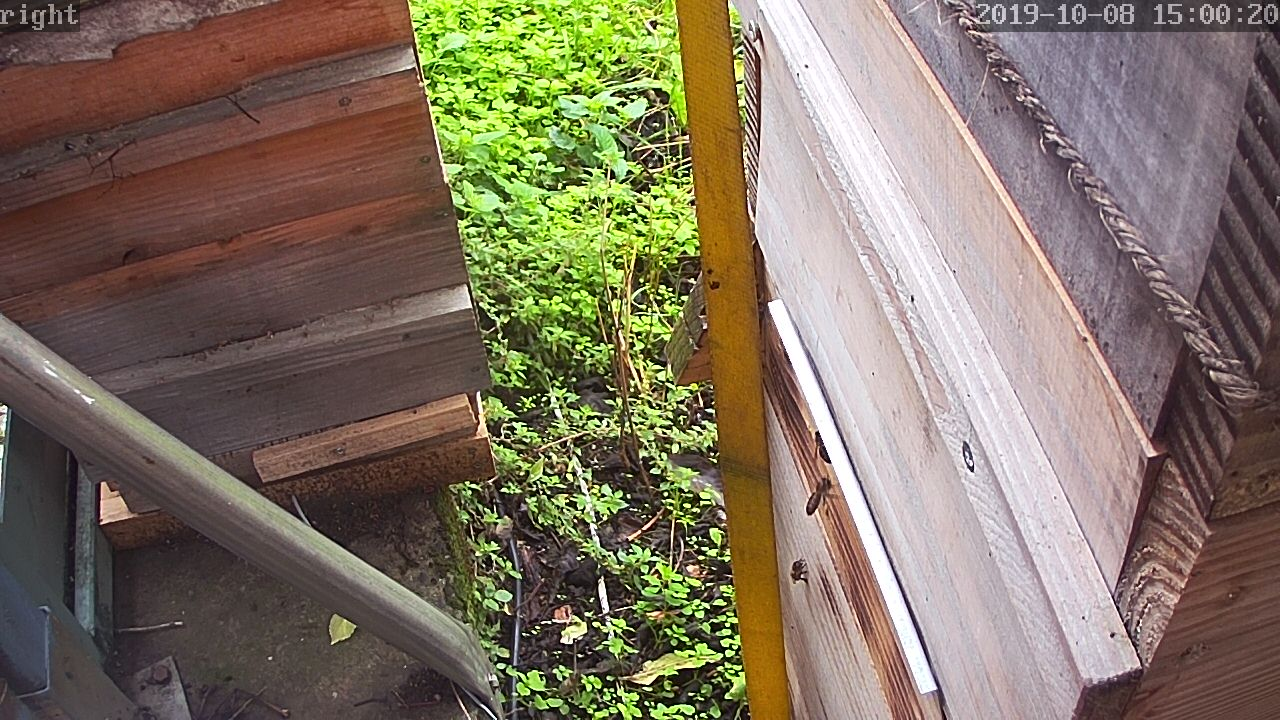bee: (797, 475, 842, 522), (781, 544, 817, 594), (805, 425, 834, 466)
